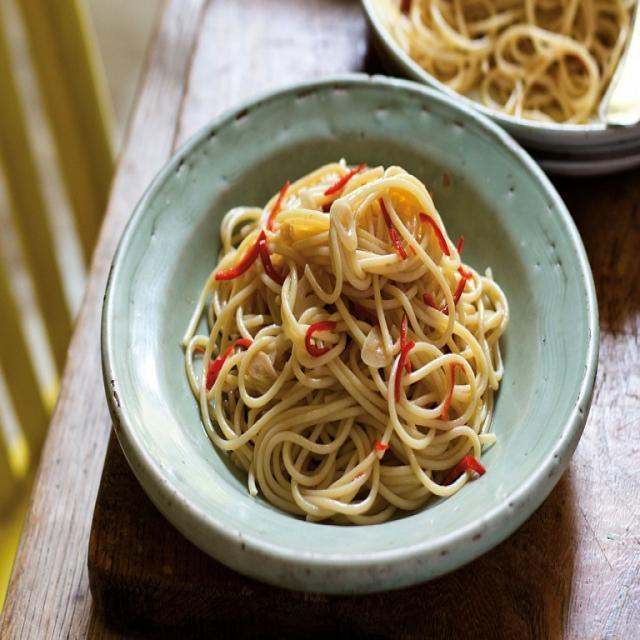Oil pasta: (131, 141, 545, 533)
